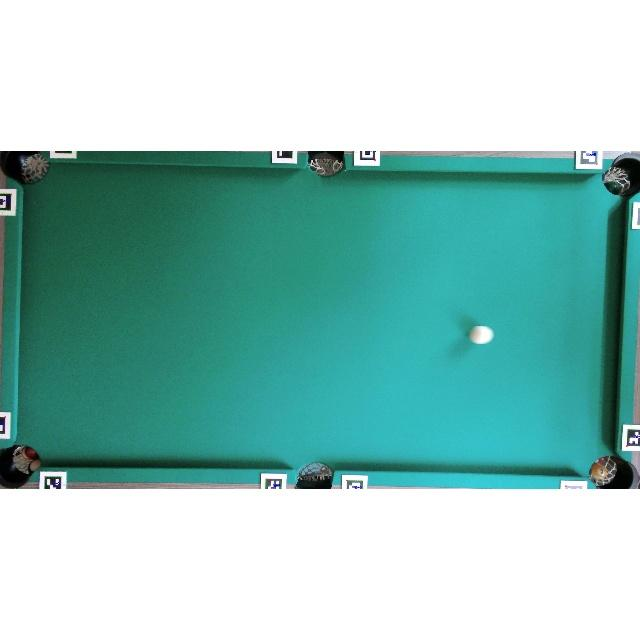cue ball: (468, 324, 494, 346)
